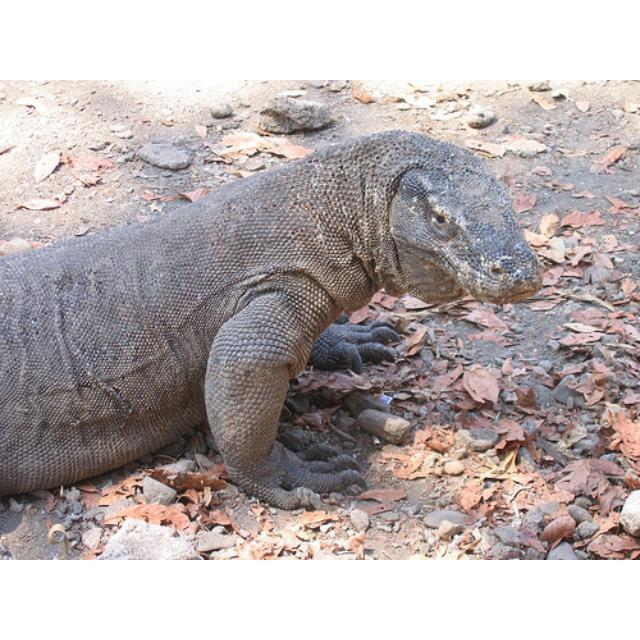KomodoDragon: (0, 127, 546, 518)
